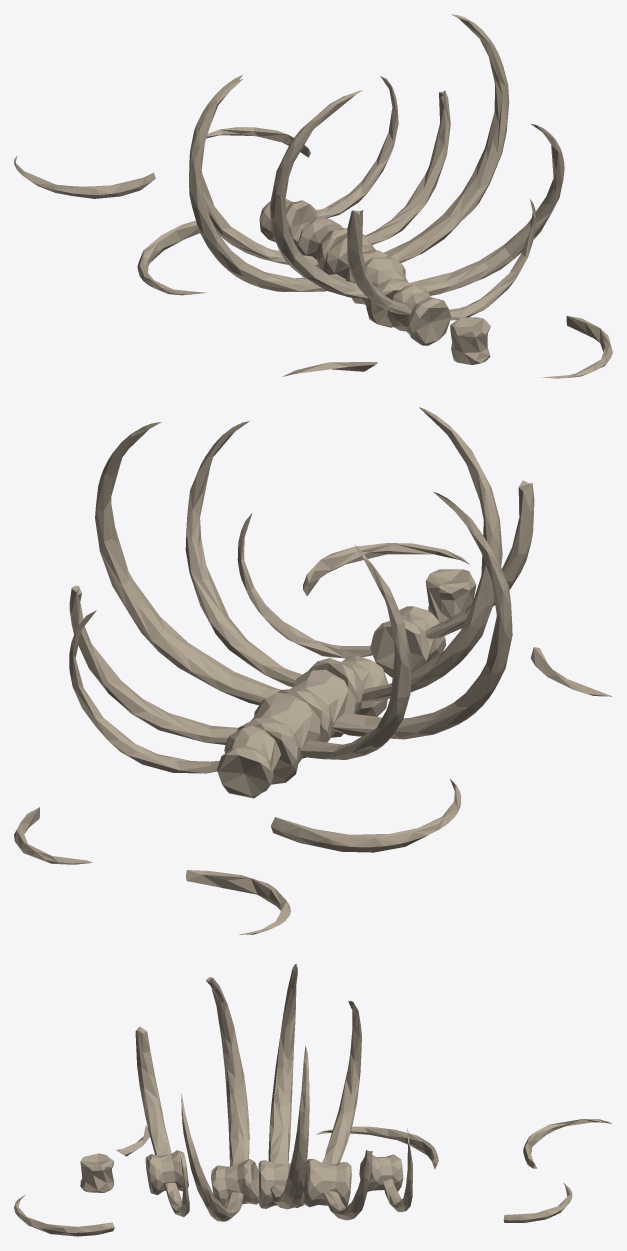
File: geo_bones.fbx
3 views of the same model, one above another, from view 1: azimuth 30°, elevation 25°; view 2: azimuth 150°, elevation 25°; view 3: azimuth 270°, elevation 25° (orthographic). The views are drawn at different scales.
Parts seen in each view (by area): view 1: geo_bones; view 2: geo_bones; view 3: geo_bones.
Part boxes in pixels (x1,y1,x2,y2): geo_bones: (14, 14, 612, 378); geo_bones: (14, 407, 612, 934); geo_bones: (14, 964, 612, 1236).
Bounding box in the file's own units: 2.8 × 2.09 × 5.38.
